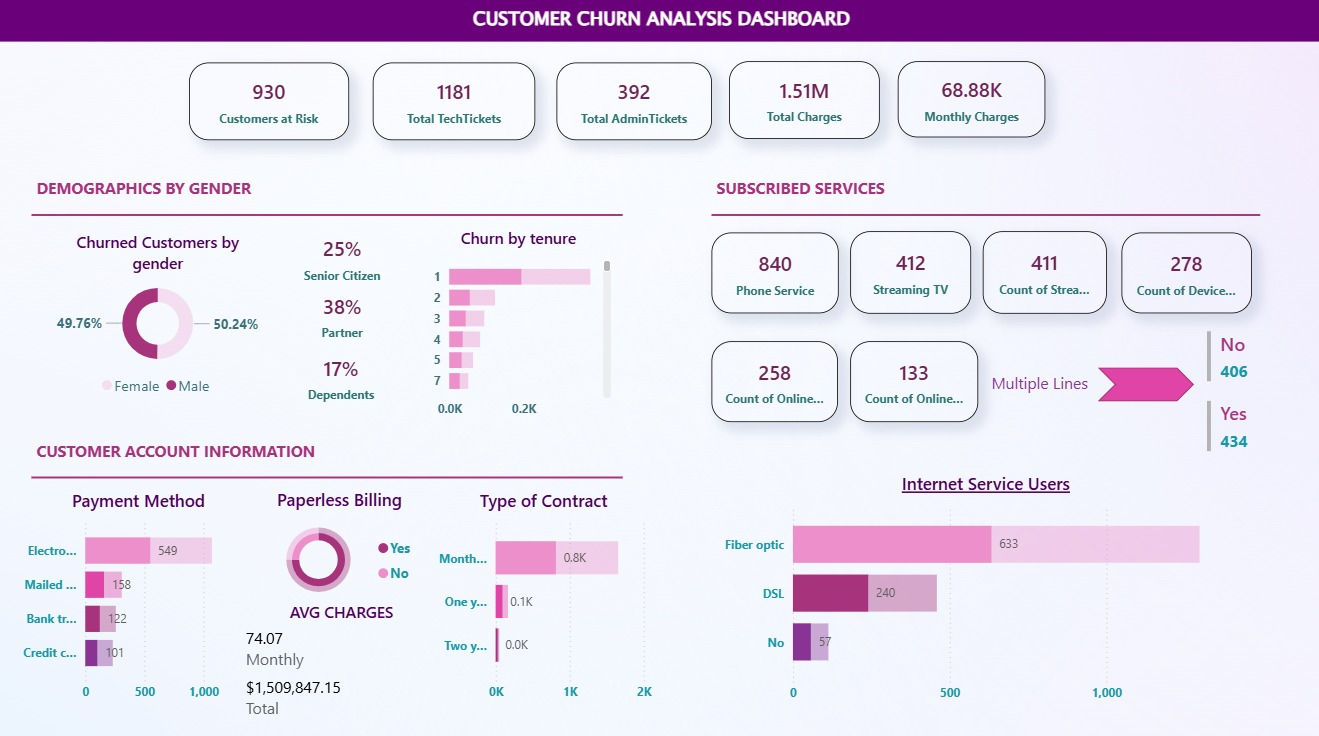

Layout of this report page (visuals, bound fields, positions):
{"tool":"powerbi","page":{"name":"Page 1","canvas":[1350,750],"ordinal":0},"visuals":[{"type":"card","fields":{"Values":["CountNonNull(01 Churn-Dataset.customerID)"]},"box":[193.3,63.9,162.8,79.1],"z":0},{"type":"textbox","box":[0,0,1350.2,42],"z":1000},{"type":"card","fields":{"Values":["Sum(01 Churn-Dataset.numTechTickets)"]},"box":[380.4,63.9,165.9,79.1],"z":2000},{"type":"card","fields":{"Values":["Sum(01 Churn-Dataset.numAdminTickets)"]},"box":[567.6,63.9,158.3,79.1],"z":3000},{"type":"card","fields":{"Values":["Sum(01 Churn-Dataset.TotalCharges)"]},"box":[744.1,62.4,153.7,79.1],"z":4000},{"type":"card","fields":{"Values":["Sum(01 Churn-Dataset.MonthlyCharges)"]},"box":[916,62.4,150.6,77.6],"z":5000},{"type":"donutChart","title":"Churned Customers by gender","fields":{"Category":["01 Churn-Dataset.gender"],"Y":["CountNonNull(01 Churn-Dataset.Churn)"]},"box":[48.4,222.9,226.7,196.2],"z":6000},{"type":"card","fields":{"Values":["Churn.Senior Citizen"]},"box":[275.1,219.1,149,87.9],"z":7000},{"type":"card","fields":{"Values":["Churn.% of dependents"]},"box":[273.9,340.1,149,89.2],"z":8000},{"type":"card","fields":{"Values":["Churn.% of partner"]},"box":[275.1,277.7,149,87.9],"z":9000},{"type":"textbox","box":[33.1,175.8,550.3,43.3],"z":10000},{"type":"clusteredBarChart","title":"Churn by tenure","fields":{"Category":["Churn.tenure"],"Y":["CountNonNull(Churn.Churn)"]},"box":[422.9,219.1,212.7,222.9],"z":11000},{"type":"shape","box":[33.1,184.7,602.5,68.8],"z":12000},{"type":"shape","box":[726.1,184.7,559.2,68.8],"z":13000},{"type":"card","fields":{"Values":["CountNonNull(Churn.PhoneService)"]},"box":[726.1,236.9,129.9,82.8],"z":14000},{"type":"card","fields":{"Values":["CountNonNull(Churn.StreamingTV)"]},"box":[867.4,235.7,123.6,84.1],"z":15000},{"type":"card","fields":{"Values":["CountNonNull(Churn.StreamingMovies)"]},"box":[1002.5,235.7,126.1,84.1],"z":16000},{"type":"card","fields":{"Values":["CountNonNull(Churn.DeviceProtection)"]},"box":[1143.9,236.9,132.5,82.8],"z":17000},{"type":"card","fields":{"Values":["CountNonNull(Churn.OnlineBackup)"]},"box":[726,348,129,82.5],"z":18000},{"type":"card","fields":{"Values":["CountNonNull(Churn.OnlineSecurity)"]},"box":[867,348,130.5,82.5],"z":19000},{"type":"multiRowCard","fields":{"Values":["Churn.MultipleLines","Churn.customerID"]},"box":[1224.1,331.2,126.1,155.4],"z":20000},{"type":"shape","box":[1119.7,374.5,98.1,34.4],"z":21000},{"type":"textbox","box":[1006.3,374.5,122.3,31.8],"z":22000},{"type":"clusteredBarChart","title":"Internet Service Users","fields":{"Category":["Churn.InternetService"],"Y":["CountNonNull(Churn.InternetService)"]},"box":[726.1,468.8,559.2,262.4],"z":23000},{"type":"textbox","box":[726.1,175.8,550.3,43.3],"z":24000},{"type":"textbox","box":[33.1,443.3,550.3,43.3],"z":25000},{"type":"shape","box":[33.1,452.2,602.5,68.8],"z":26000},{"type":"clusteredBarChart","title":"Payment Method","fields":{"Category":["Churn.PaymentMethod"],"Y":["CountNonNull(Churn.PaymentMethod)"]},"box":[0,486.9,284.6,243.5],"z":27000},{"type":"donutChart","title":"Paperless Billing","fields":{"Category":["Churn.PaperlessBilling"],"Y":["CountNonNull(Churn.PaperlessBilling)"]},"box":[254.1,485.4,187.2,143],"z":28000},{"type":"multiRowCard","title":"AVG CHARGES","fields":{"Values":["Avg(Churn.MonthlyCharges)","Sum(Churn.TotalCharges)"]},"box":[238.9,599.5,219.1,150.6],"z":29000},{"type":"clusteredBarChart","title":"Type of Contract ","fields":{"Category":["Churn.Contract"],"Y":["CountNonNull(Churn.Contract)"]},"box":[424.5,486.9,261.7,243.5],"z":30000}]}

Visuals, with their boxes in screenshot pixels (x1, y1, x2, y2), scaled from the page's 1350x750 canvas onto the 1319x736 screenshot:
card - CountNonNull(01 Churn-Dataset.customerID): left=189, top=63, right=348, bottom=140
textbox: left=0, top=0, right=1318, bottom=41
card - Sum(01 Churn-Dataset.numTechTickets): left=372, top=63, right=534, bottom=140
card - Sum(01 Churn-Dataset.numAdminTickets): left=555, top=63, right=709, bottom=140
card - Sum(01 Churn-Dataset.TotalCharges): left=727, top=61, right=877, bottom=139
card - Sum(01 Churn-Dataset.MonthlyCharges): left=895, top=61, right=1042, bottom=137
"Churned Customers by gender" donutChart: left=47, top=219, right=269, bottom=411
card - Churn.Senior Citizen: left=269, top=215, right=414, bottom=301
card - Churn.% of dependents: left=268, top=334, right=413, bottom=421
card - Churn.% of partner: left=269, top=273, right=414, bottom=359
textbox: left=32, top=173, right=570, bottom=215
"Churn by tenure" clusteredBarChart: left=413, top=215, right=621, bottom=434
shape: left=32, top=181, right=621, bottom=249
shape: left=709, top=181, right=1256, bottom=249
card - CountNonNull(Churn.PhoneService): left=709, top=232, right=836, bottom=314
card - CountNonNull(Churn.StreamingTV): left=847, top=231, right=968, bottom=314
card - CountNonNull(Churn.StreamingMovies): left=979, top=231, right=1103, bottom=314
card - CountNonNull(Churn.DeviceProtection): left=1118, top=232, right=1247, bottom=314
card - CountNonNull(Churn.OnlineBackup): left=709, top=342, right=835, bottom=422
card - CountNonNull(Churn.OnlineSecurity): left=847, top=342, right=975, bottom=422
multiRowCard - Churn.MultipleLines x Churn.customerID: left=1196, top=325, right=1318, bottom=478
shape: left=1094, top=368, right=1190, bottom=401
textbox: left=983, top=368, right=1103, bottom=399
"Internet Service Users" clusteredBarChart: left=709, top=460, right=1256, bottom=718
textbox: left=709, top=173, right=1247, bottom=215
textbox: left=32, top=435, right=570, bottom=478
shape: left=32, top=444, right=621, bottom=511
"Payment Method" clusteredBarChart: left=0, top=478, right=278, bottom=717
"Paperless Billing" donutChart: left=248, top=476, right=431, bottom=617
"AVG CHARGES" multiRowCard: left=233, top=588, right=447, bottom=735
"Type of Contract " clusteredBarChart: left=415, top=478, right=670, bottom=717
